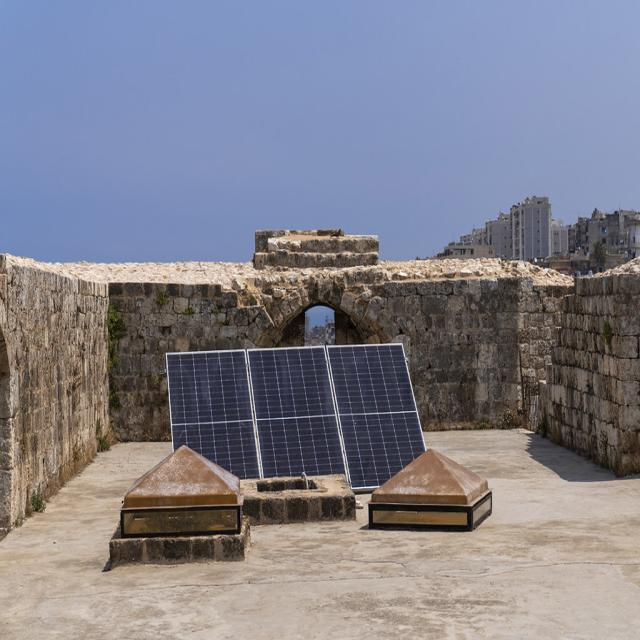dust-solar-panel: (167, 343, 425, 491)
